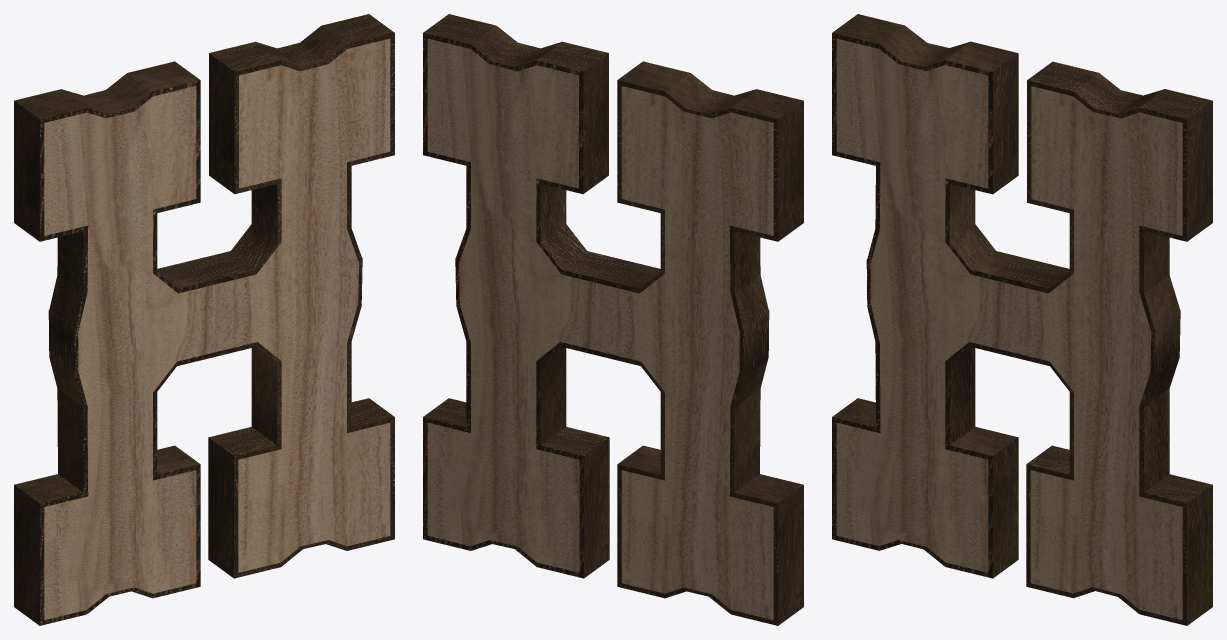
3 views of the same model, side by side, from view 1: azimuth 30°, elevation 25°; view 2: azimuth 150°, elevation 25°; view 3: azimuth 330°, elevation 25° (orthographic).
Visible parts, largest first — view 1: H, H_outline; view 2: H, H_outline; view 3: H, H_outline.
Part boxes in pixels (bbox=[...]): H: bbox=[44, 38, 390, 619]; H_outline: bbox=[14, 14, 394, 625]; H: bbox=[427, 38, 773, 619]; H_outline: bbox=[423, 14, 803, 625]; H: bbox=[836, 38, 1182, 619]; H_outline: bbox=[832, 14, 1212, 625].
Size of the model in its own units: 79.79 by 109 by 10.
Materials: 2 (2 with a texture image).
